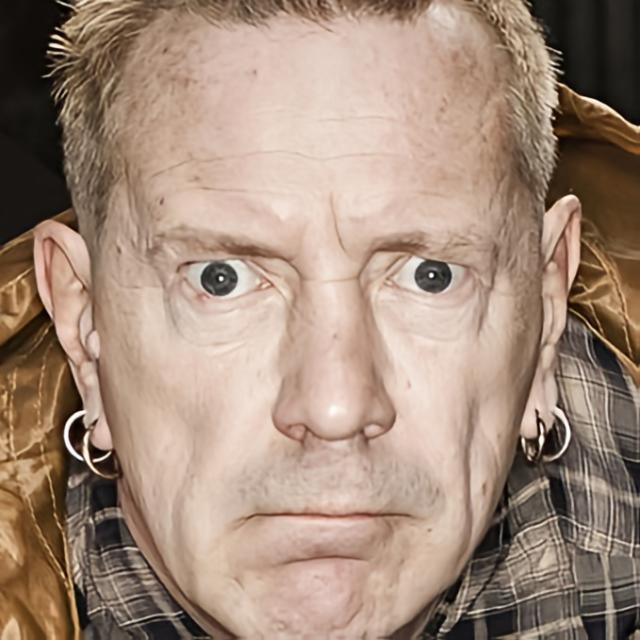fear: (94, 1, 546, 640)
